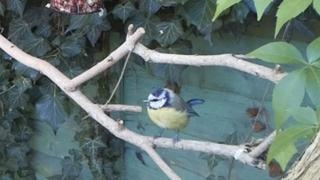blue tit: (143, 87, 205, 148)
